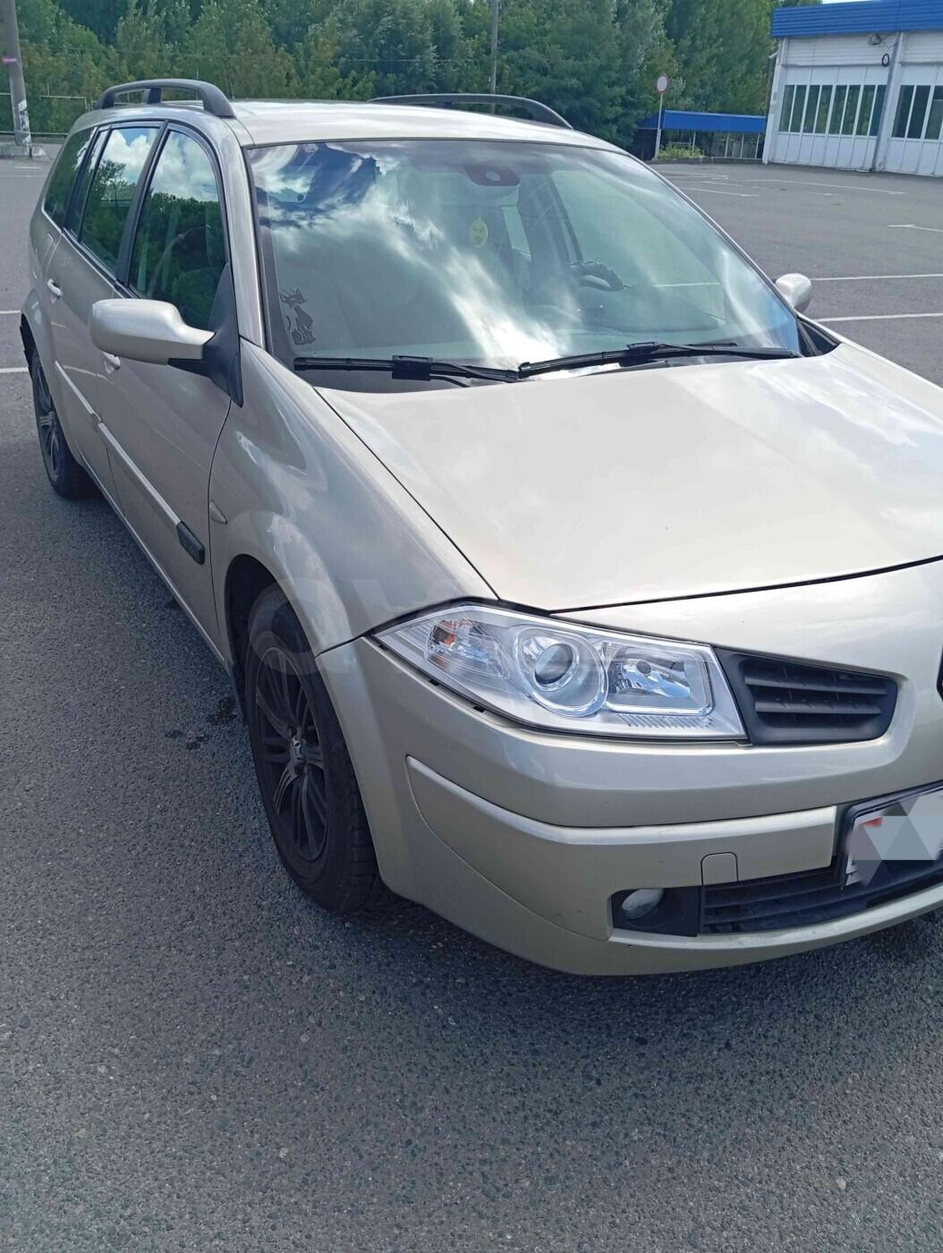Megane_2005-2009: (16, 82, 943, 988)
